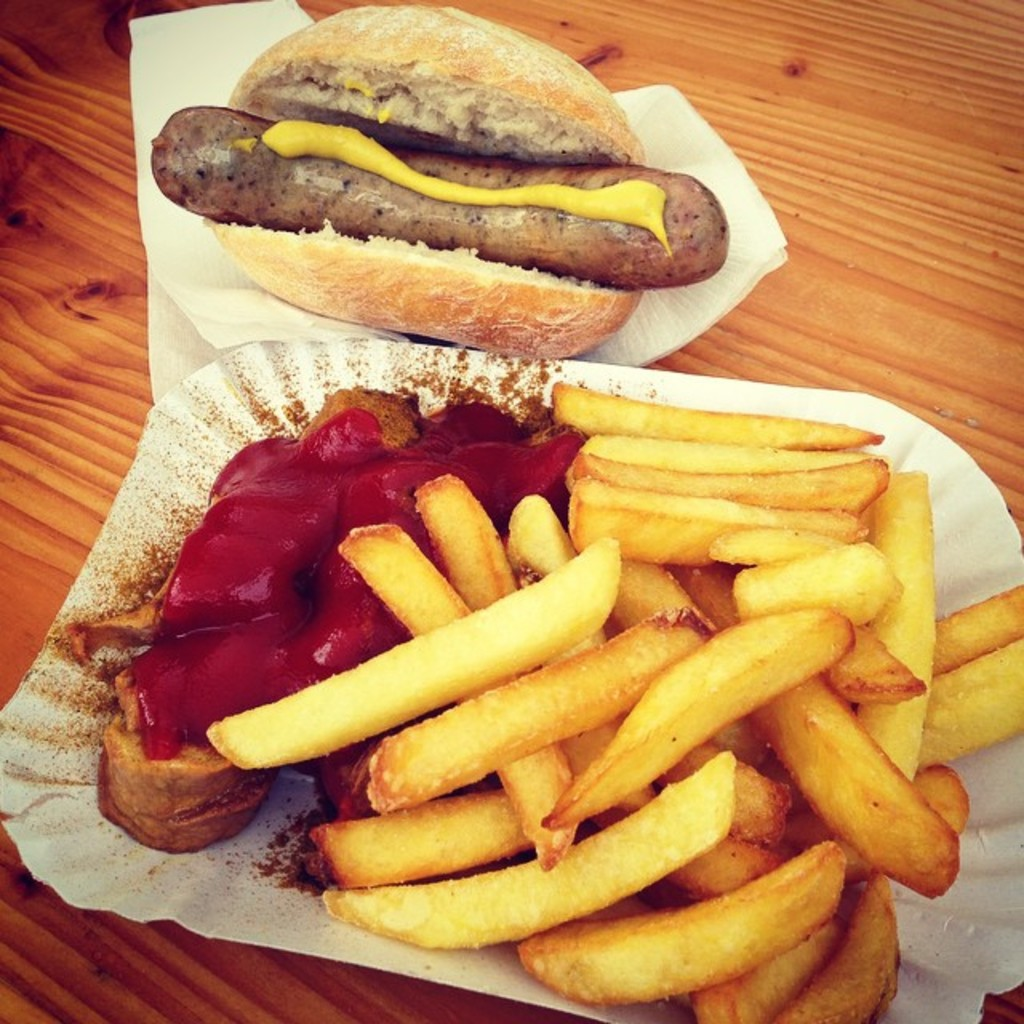French fries: (179, 379, 1022, 1022)
